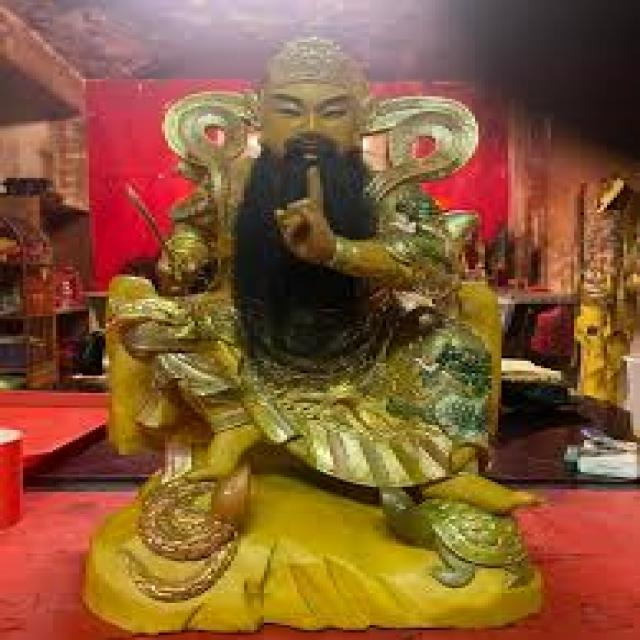Xuan wu: (108, 35, 543, 558)
